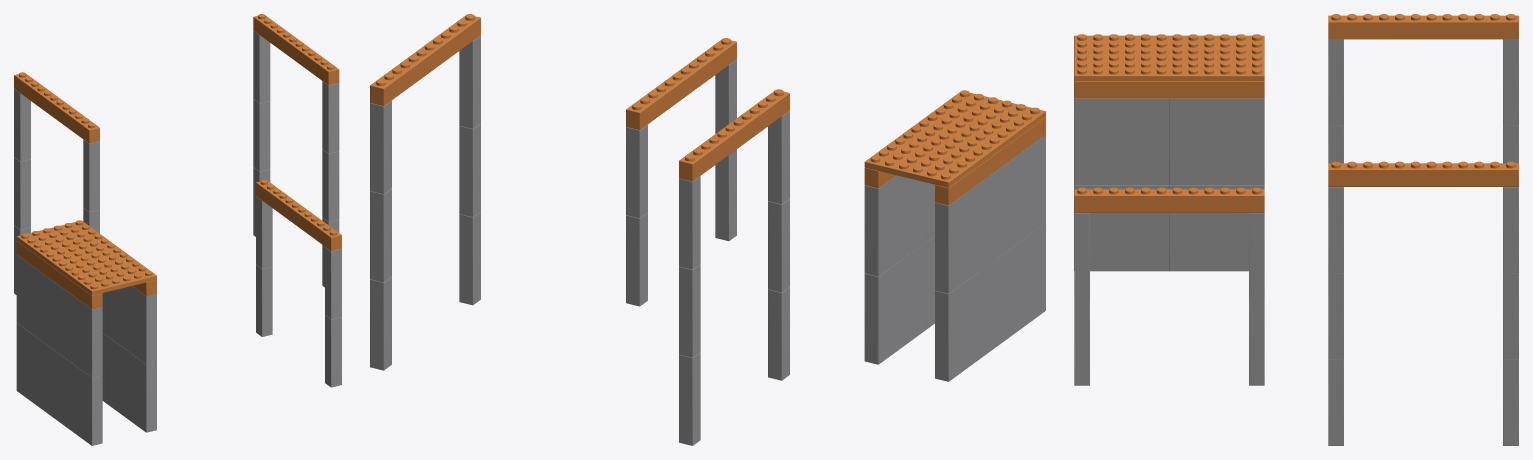
Rendered from gym.fbx.
3 views of the same model, side by side, from view 1: azimuth 30°, elevation 25°; view 2: azimuth 150°, elevation 25°; view 3: azimuth 270°, elevation 25° (orthographic). The views are drawn at different scales.
Visible parts, largest first — view 1: 00030_3028.dat, 00027_3754.dat, 00022_3754.dat, 00028_3754.dat, 00023_3754.dat, 00026_3754.dat, 00025_3754.dat, 00014_6112.dat, 00007_6112.dat, 00019_6112.dat, 00029_6112.dat, 00012_2453b.dat (+12 smaller); view 2: 00030_3028.dat, 00025_3754.dat, 00020_3754.dat, 00026_3754.dat, 00021_3754.dat, 00028_3754.dat, 00027_3754.dat, 00007_6112.dat, 00014_6112.dat, 00019_6112.dat, 00029_6112.dat, 00004_2453b.dat (+16 smaller); view 3: 00030_3028.dat, 00021_3754.dat, 00023_3754.dat, 00022_3754.dat, 00020_3754.dat, 00007_6112.dat, 00019_6112.dat, 00014_6112.dat, 00024_6112.dat, 00003_2453b.dat, 00006_2453b.dat, 00008_2453b.dat (+11 smaller).
Part boxes in pixels (x1,y1,x2,y2): 00030_3028.dat: [16, 220, 156, 295]; 00027_3754.dat: [54, 350, 102, 445]; 00022_3754.dat: [108, 337, 156, 432]; 00028_3754.dat: [54, 282, 102, 377]; 00023_3754.dat: [108, 286, 156, 364]; 00026_3754.dat: [16, 255, 54, 349]; 00025_3754.dat: [16, 323, 54, 417]; 00014_6112.dat: [253, 14, 339, 85]; 00007_6112.dat: [14, 72, 99, 143]; 00019_6112.dat: [256, 179, 341, 250]; 00029_6112.dat: [16, 241, 102, 309]; 00012_2453b.dat: [322, 149, 339, 221]; 00030_3028.dat: [864, 90, 1045, 187]; 00025_3754.dat: [935, 258, 997, 381]; 00020_3754.dat: [864, 241, 926, 364]; 00026_3754.dat: [935, 170, 997, 293]; 00021_3754.dat: [864, 175, 926, 276]; 00028_3754.dat: [997, 134, 1045, 257]; 00027_3754.dat: [997, 223, 1045, 345]; 00007_6112.dat: [679, 89, 789, 181]; 00014_6112.dat: [370, 14, 480, 105]; 00019_6112.dat: [626, 38, 736, 130]; 00029_6112.dat: [935, 117, 1045, 205]; 00004_2453b.dat: [768, 287, 789, 380]; 00030_3028.dat: [1074, 34, 1264, 81]; 00021_3754.dat: [1169, 98, 1264, 184]; 00023_3754.dat: [1074, 98, 1169, 184]; 00022_3754.dat: [1074, 185, 1169, 271]; 00020_3754.dat: [1169, 185, 1264, 271]; 00007_6112.dat: [1328, 14, 1518, 39]; 00019_6112.dat: [1074, 187, 1264, 212]; 00014_6112.dat: [1328, 161, 1518, 186]; 00024_6112.dat: [1074, 81, 1264, 98]; 00003_2453b.dat: [1503, 39, 1518, 125]; 00006_2453b.dat: [1328, 39, 1343, 125]; 00008_2453b.dat: [1503, 359, 1518, 445].
Size of the model in its own units: 640 by 388 by 560.
